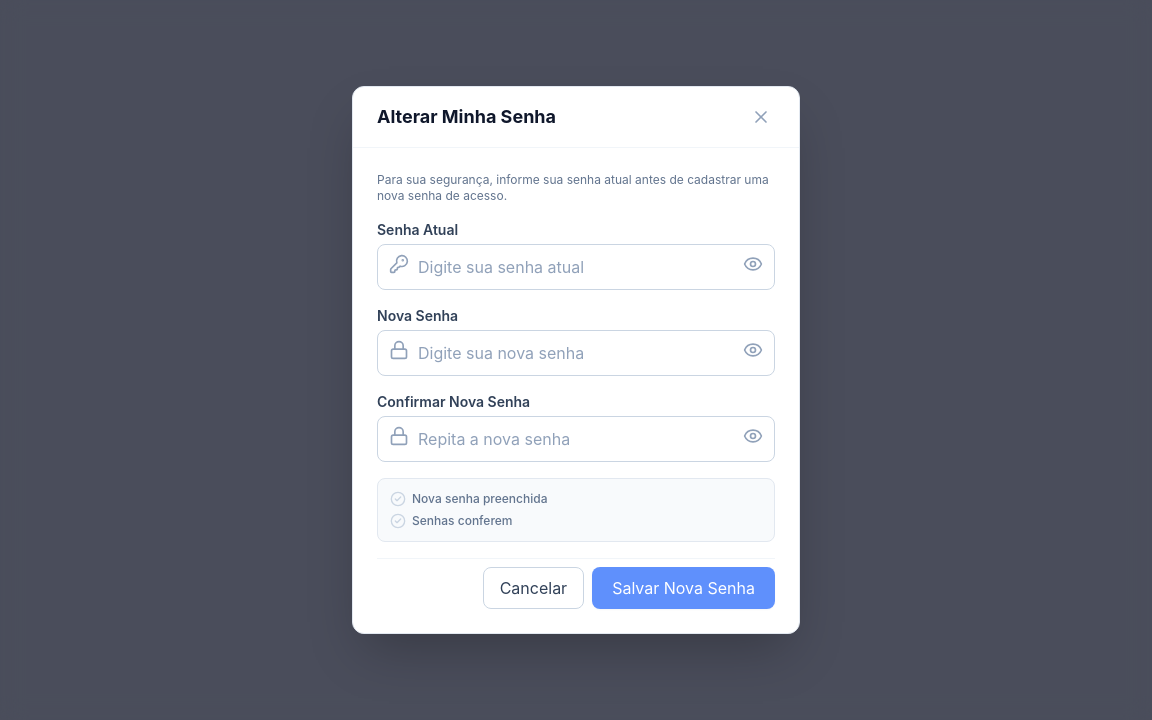
Test: ChangePasswordModal › displays error when backend rejects the current password
expect the heading "Alterar Minha Senha" is shown: met, box [377,103,556,131]
Type "senha-errada" into the password field with placeholder "Digite sua senha atual".
click(576, 267); type("senha-errada")  # box [377,244,775,290]
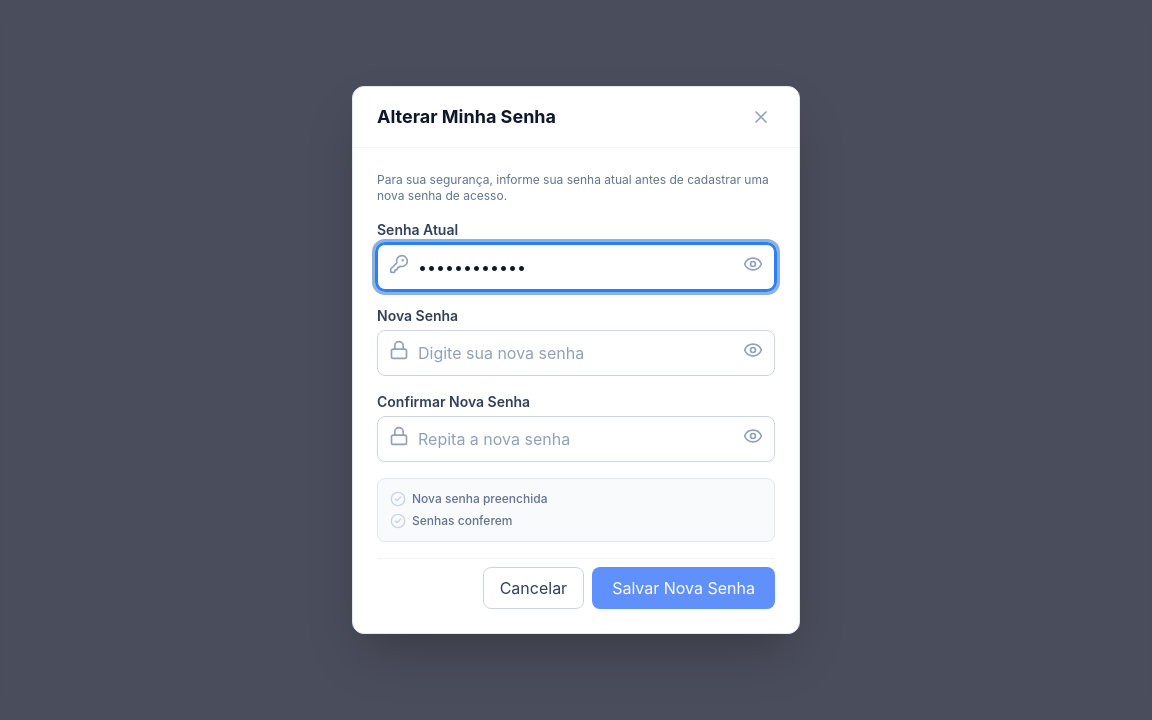
Type "nova-senha-segura" into the password field with placeholder "Digite sua nova senha".
click(576, 353); type("nova-senha-segura")  # box [377,330,775,376]
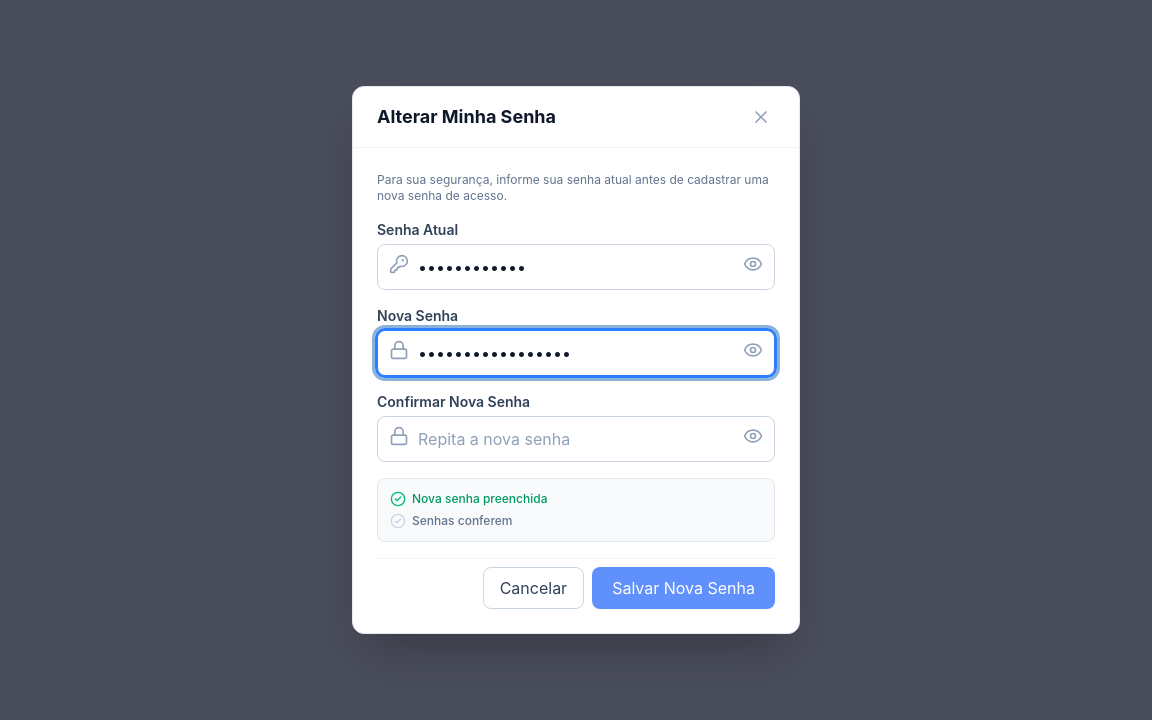
Type "nova-senha-segura" into the password field with placeholder "Repita a nova senha".
click(576, 439); type("nova-senha-segura")  # box [377,416,775,462]
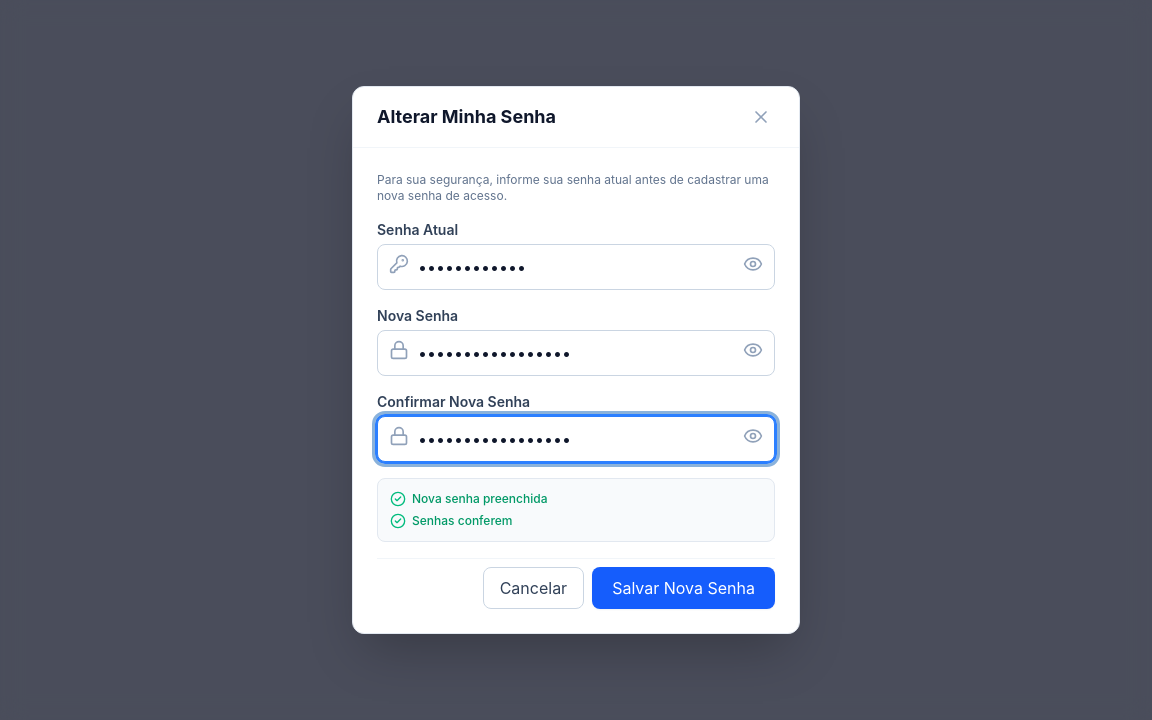
Click the button "Salvar Nova Senha".
click(684, 588)  # box [592,567,775,609]
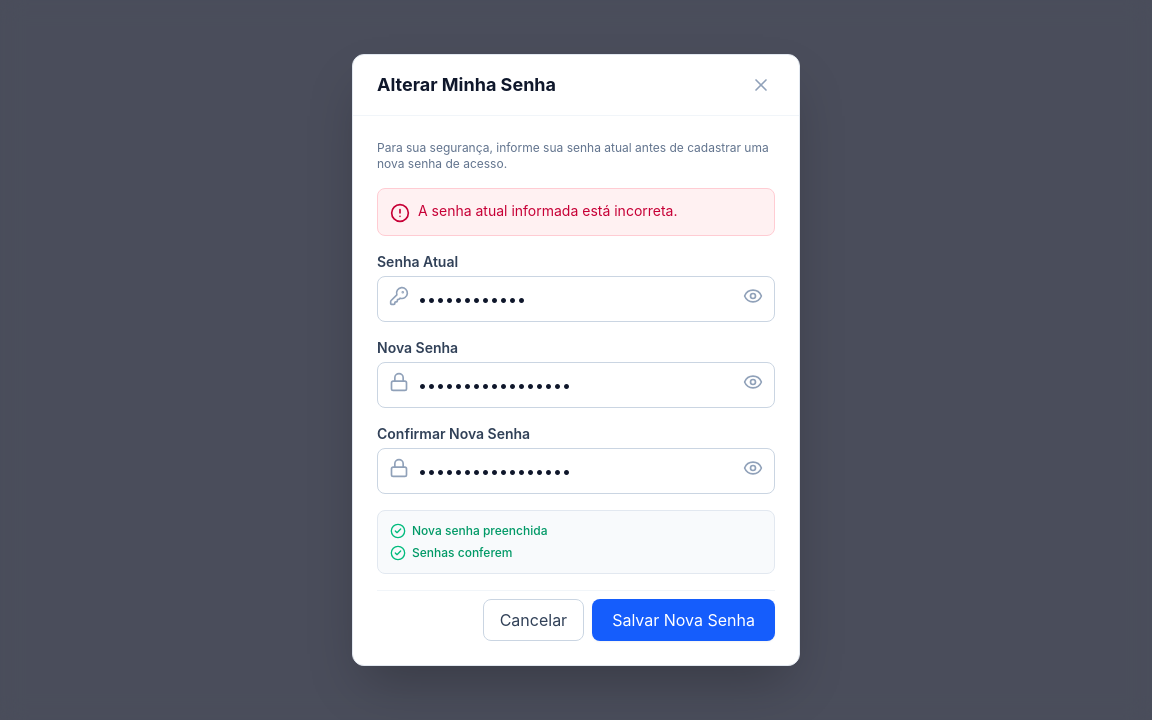
expect the text "A senha atual informada está incorreta." is shown: met, box [418,201,678,221]
